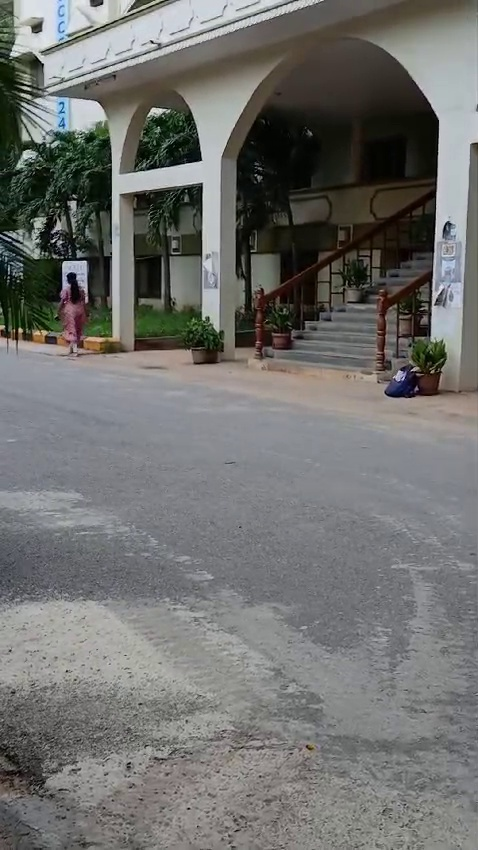bag: (381, 365, 423, 405)
